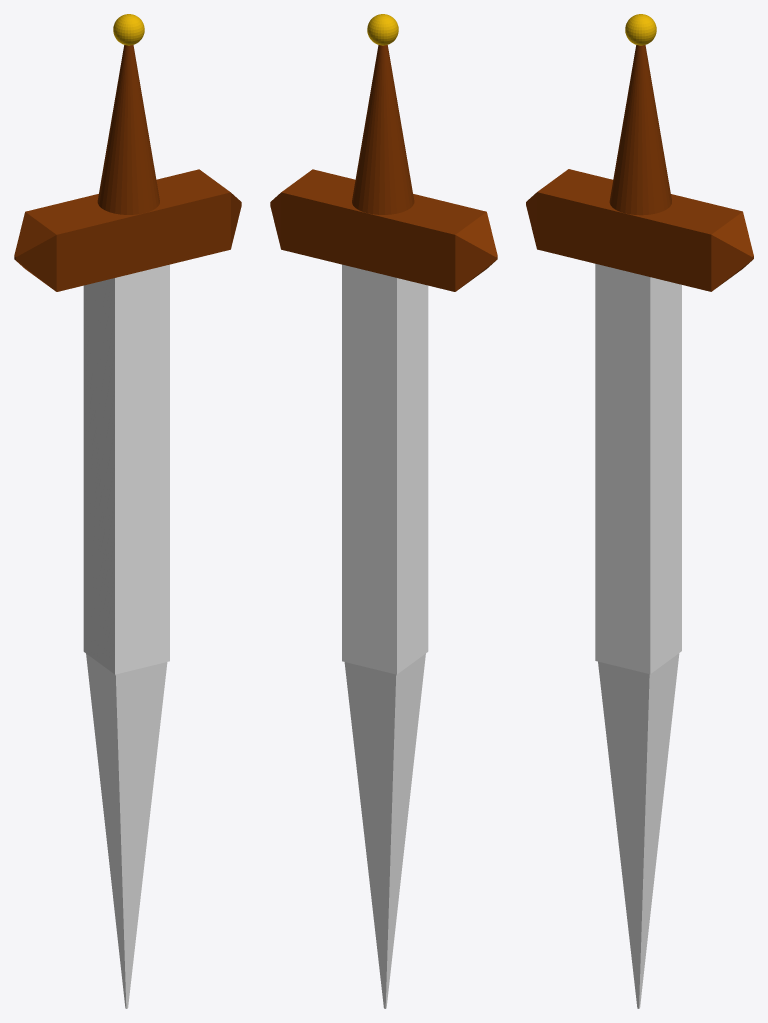
File: Low poly Sword.fbx
3 views of the same model, side by side, from view 1: azimuth 30°, elevation 25°; view 2: azimuth 150°, elevation 25°; view 3: azimuth 330°, elevation 25° (orthographic).
Parts seen in each view (by area): view 1: Cube.001, Cube, Cone, Sphere; view 2: Cube.001, Cube, Cone, Sphere; view 3: Cube.001, Cube, Cone, Sphere.
Part boxes in pixels (x1,y1,x2,y2): Cube.001: [83, 264, 169, 1008]; Cube: [14, 169, 241, 291]; Cone: [97, 45, 159, 214]; Sphere: [113, 14, 144, 45]; Cube.001: [342, 264, 428, 1008]; Cube: [270, 169, 497, 291]; Cone: [352, 45, 414, 214]; Sphere: [367, 14, 398, 45]; Cube.001: [595, 264, 681, 1008]; Cube: [526, 169, 753, 291]; Cone: [609, 45, 671, 215]; Sphere: [625, 14, 656, 45].
Bounding box in the file's own units: 165 × 693 × 40.
